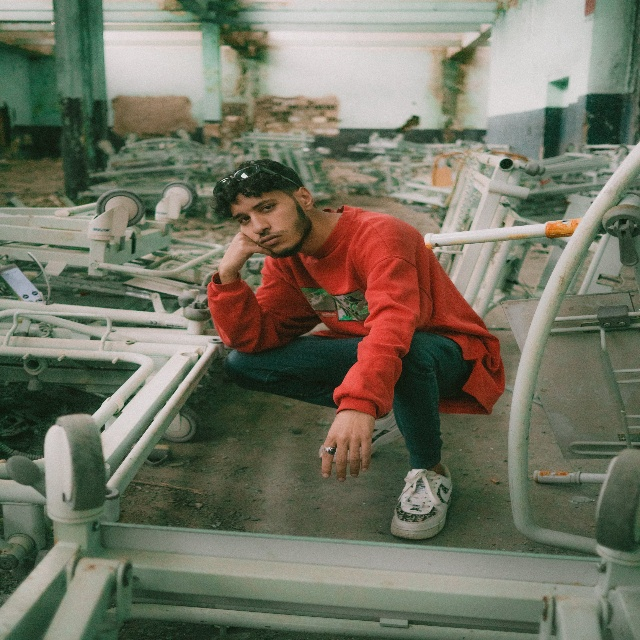Gafas: (212, 163, 298, 201)
Sin_guantes: (319, 413, 377, 474), (218, 237, 271, 273)
